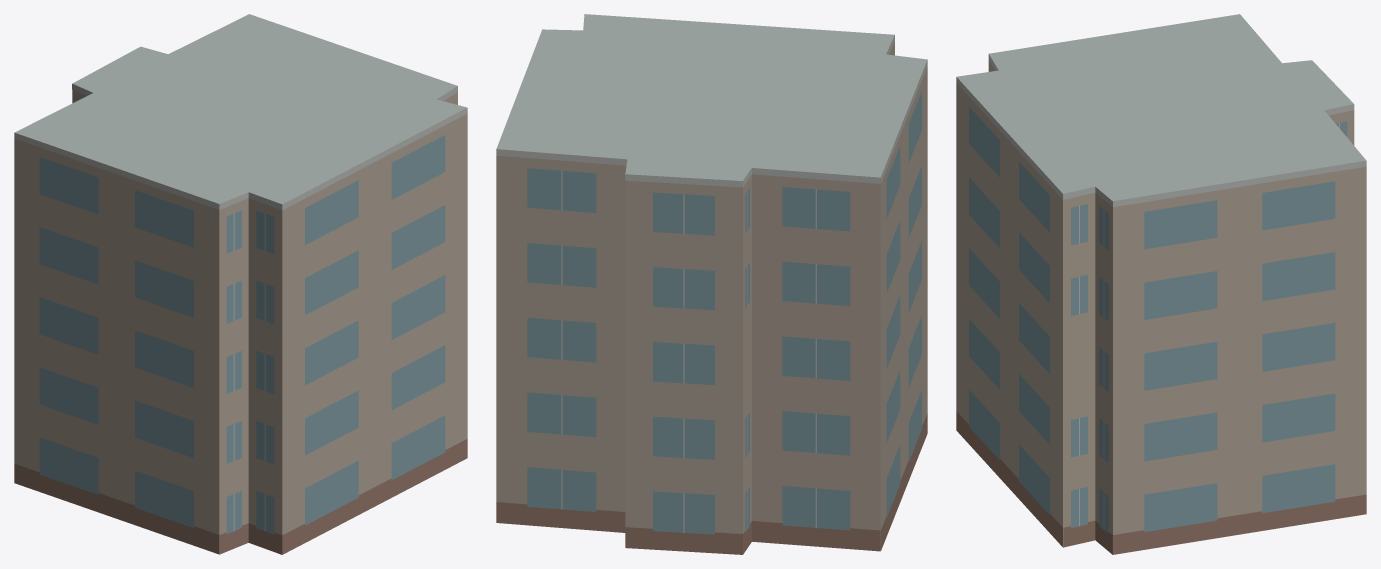
File: survey-upis-32953042.glb
3 renders of one model, left to right at view 1: azimuth 30°, elevation 25°; view 2: azimuth 150°, elevation 25°; view 3: azimuth 270°, elevation 25°, orthographic. The views are drawn at different scales.
Visible parts, largest first — view 1: survey-upis-32953042.tmp; view 2: survey-upis-32953042.tmp; view 3: survey-upis-32953042.tmp.
Part boxes in pixels (bbox=[...]): survey-upis-32953042.tmp: bbox=[14, 14, 467, 554]; survey-upis-32953042.tmp: bbox=[496, 14, 927, 554]; survey-upis-32953042.tmp: bbox=[956, 14, 1366, 554].
Bounding box in the file's own units: 16.26 × 14.3 × 15.05.
